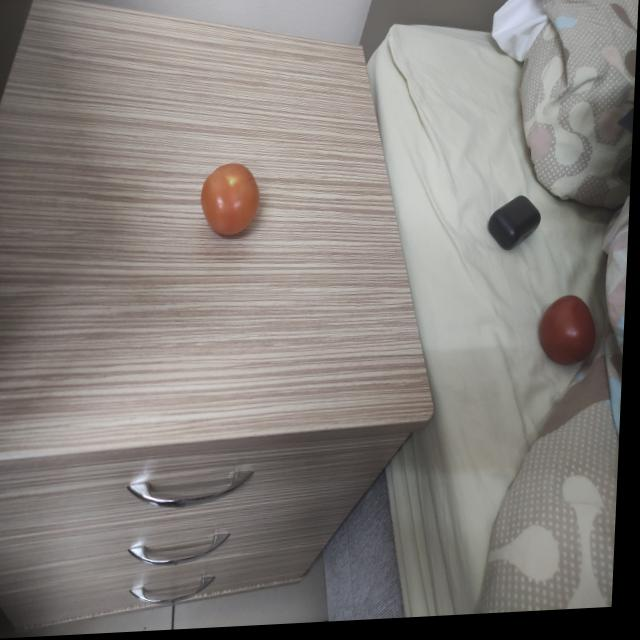sari: (200, 149, 275, 251)
